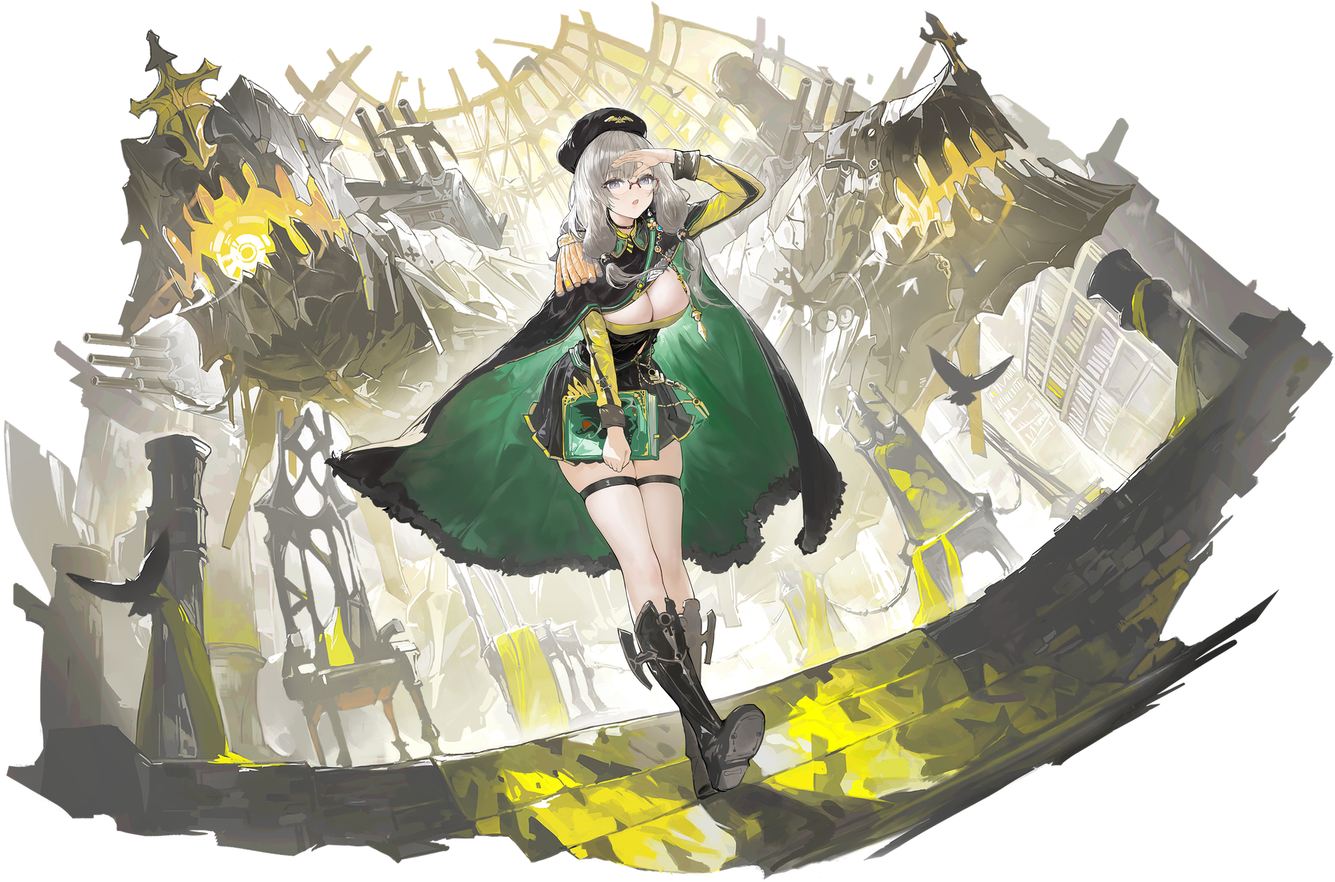person: (417, 81, 812, 766)
